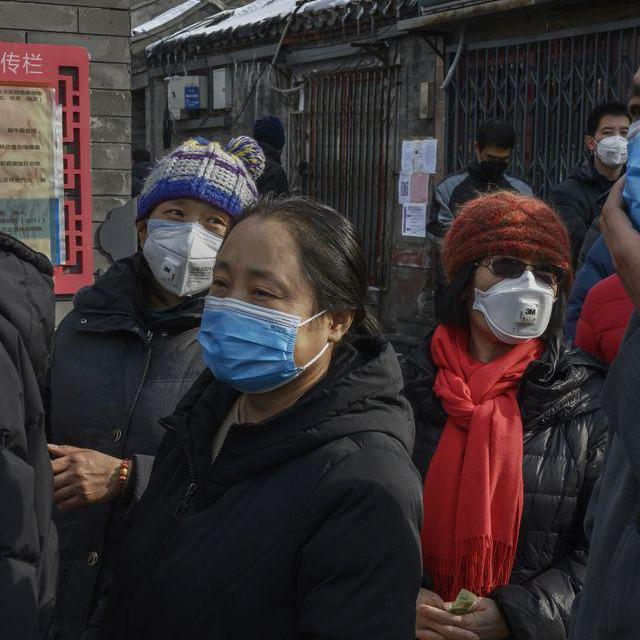Mask: (197, 296, 306, 396), (139, 218, 221, 297), (477, 272, 558, 346), (596, 134, 631, 168), (479, 158, 508, 180)
NO-Hardhat: (219, 198, 365, 280), (441, 191, 572, 265), (137, 134, 261, 208), (477, 116, 520, 145), (589, 96, 629, 119), (252, 113, 287, 136), (129, 148, 152, 164)
NO-Safety Vest: (108, 412, 393, 640), (375, 335, 583, 640), (59, 291, 203, 624), (567, 184, 617, 246), (131, 164, 152, 193), (266, 161, 286, 191)
Person: (42, 135, 259, 640), (247, 118, 294, 200), (132, 141, 152, 193)
